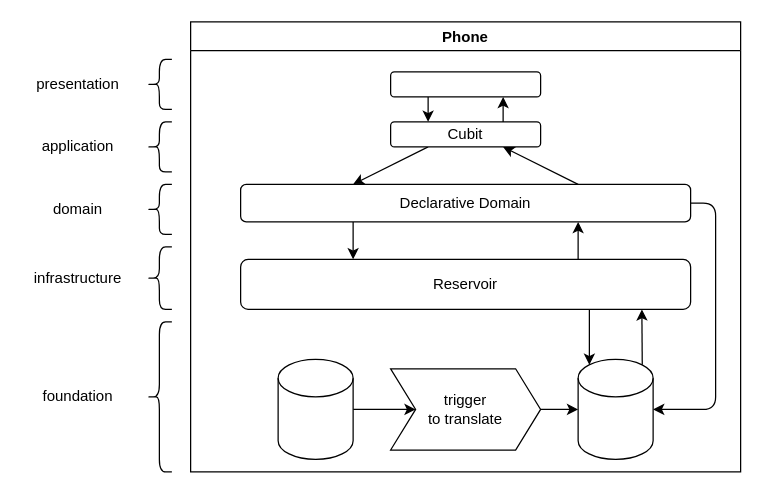
This 763x494 diagram has some shape labels left out. The centre of each missing label's shape, as x and y in pixels:
data model: point (315, 408)
domain cache: point (615, 408)
UI: point (465, 84)
